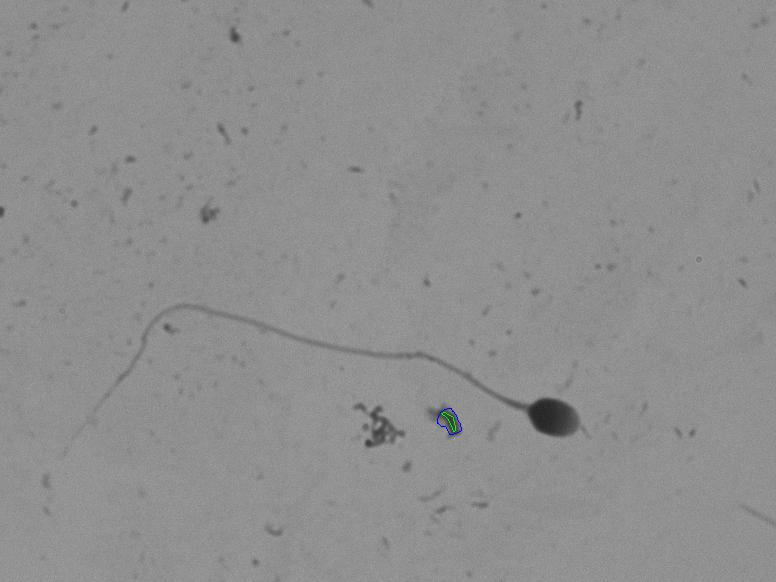Normal: (48, 258, 618, 507)
